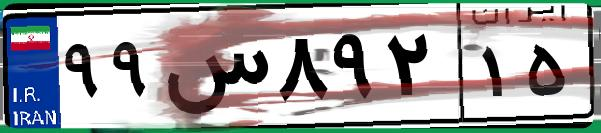1: (475, 38, 525, 113)
2: (385, 28, 445, 110)
5: (525, 38, 570, 115)
8: (270, 28, 330, 110)
9: (330, 28, 385, 110), (57, 26, 110, 100), (110, 28, 158, 98)
س: (158, 20, 270, 120)
